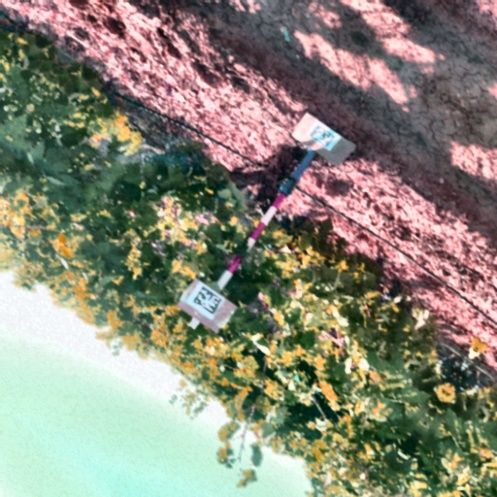QR: (191, 284, 224, 315), (310, 124, 335, 148)
